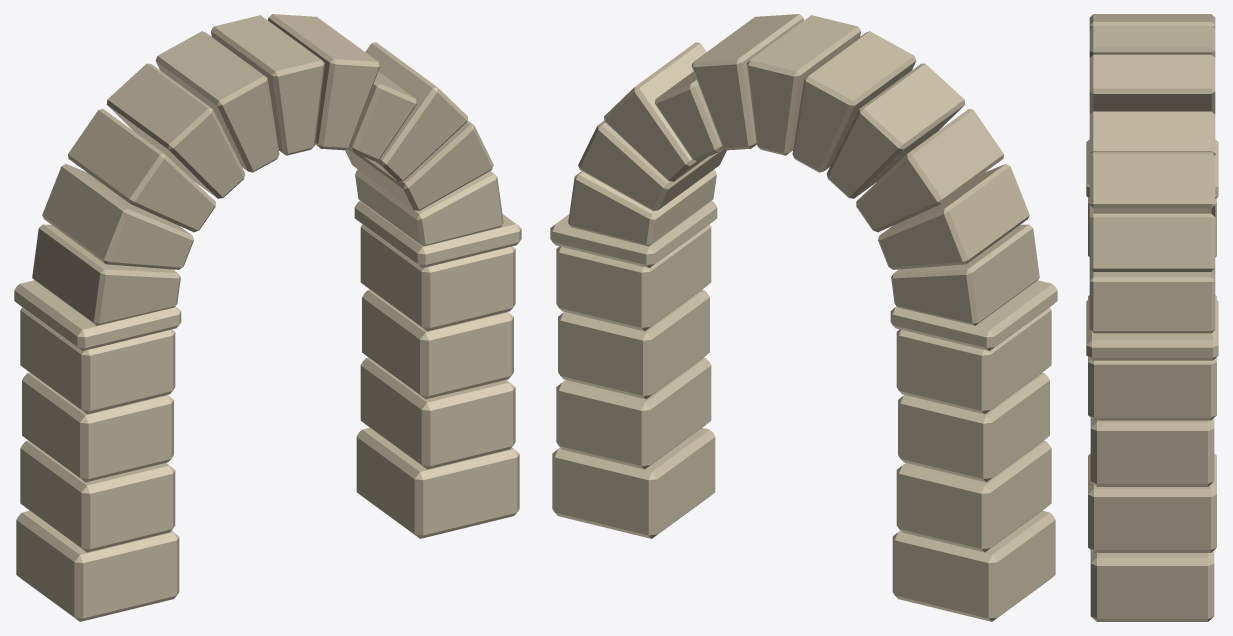
Rendered from Ruin_Arch_A.glb.
The picture shows the model from 3 angles, left to right: view 1: azimuth 30°, elevation 25°; view 2: azimuth 150°, elevation 25°; view 3: azimuth 270°, elevation 25°; orthographic projection. The views are drawn at different scales.
Parts seen in each view (by area): view 1: Ruin_Arch_A.001; view 2: Ruin_Arch_A.001; view 3: Ruin_Arch_A.001.
Part boxes in pixels (<box>): Ruin_Arch_A.001: <box>14,14,521,621</box>; Ruin_Arch_A.001: <box>550,14,1057,621</box>; Ruin_Arch_A.001: <box>1086,14,1218,621</box>.
Bounding box in the file's own units: 8.77 × 9.5 × 2.35.
